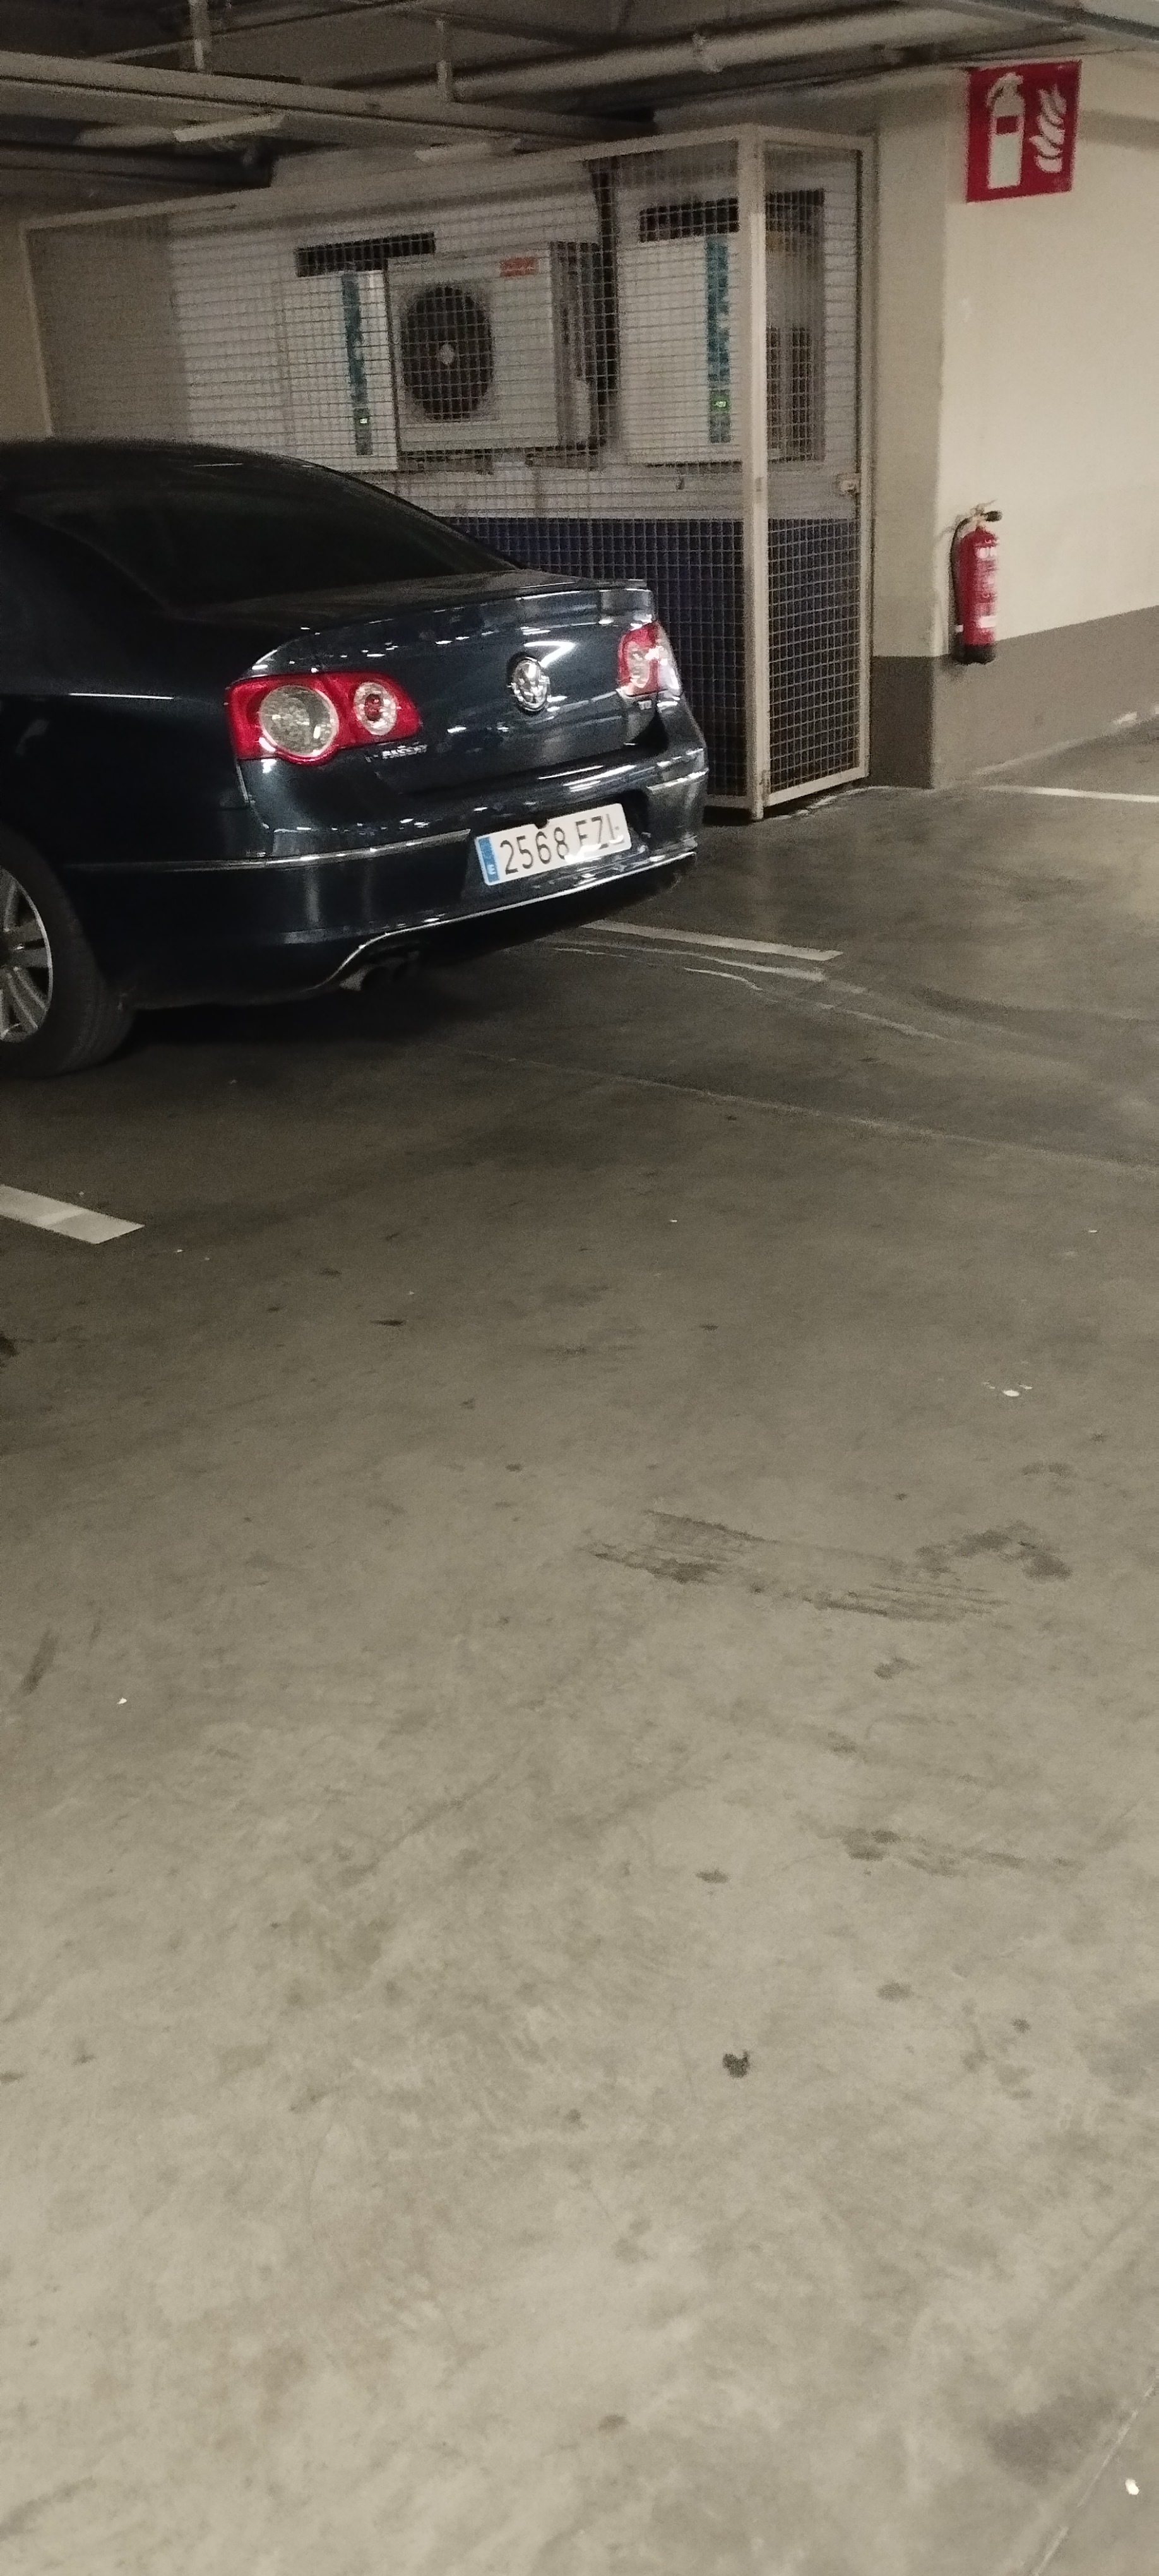Car: (0, 436, 687, 964)
Plate: (468, 836, 634, 893)
